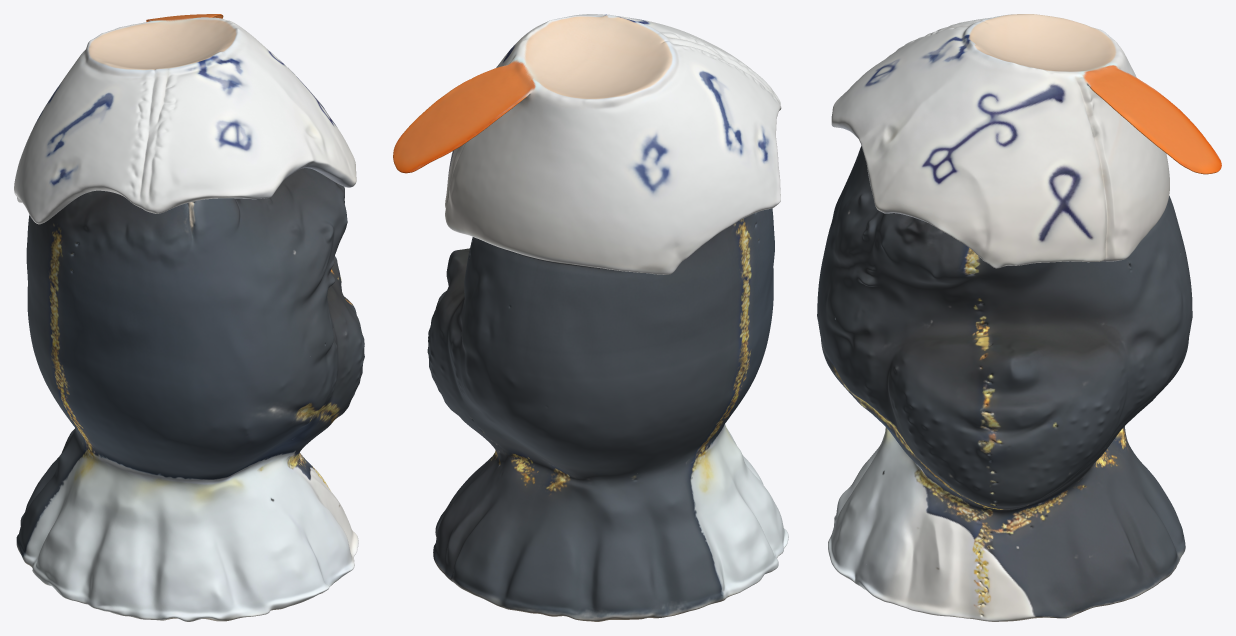
File: modelo4.glb
The picture shows the model from 3 angles, left to right: view 1: azimuth 30°, elevation 25°; view 2: azimuth 150°, elevation 25°; view 3: azimuth 270°, elevation 25°; orthographic projection. The views are drawn at different scales.
Parts seen in each view (by area): view 1: Object_01; view 2: Object_01; view 3: Object_01.
Part boxes in pixels (x1=…): Object_01: x1=14, y1=14, x2=364, y2=621; Object_01: x1=393, y1=14, x2=788, y2=621; Object_01: x1=817, y1=14, x2=1221, y2=621.
Size of the model in its own units: 0.6607 by 1 by 0.7115.
Materials: 1 (1 with a texture image).
